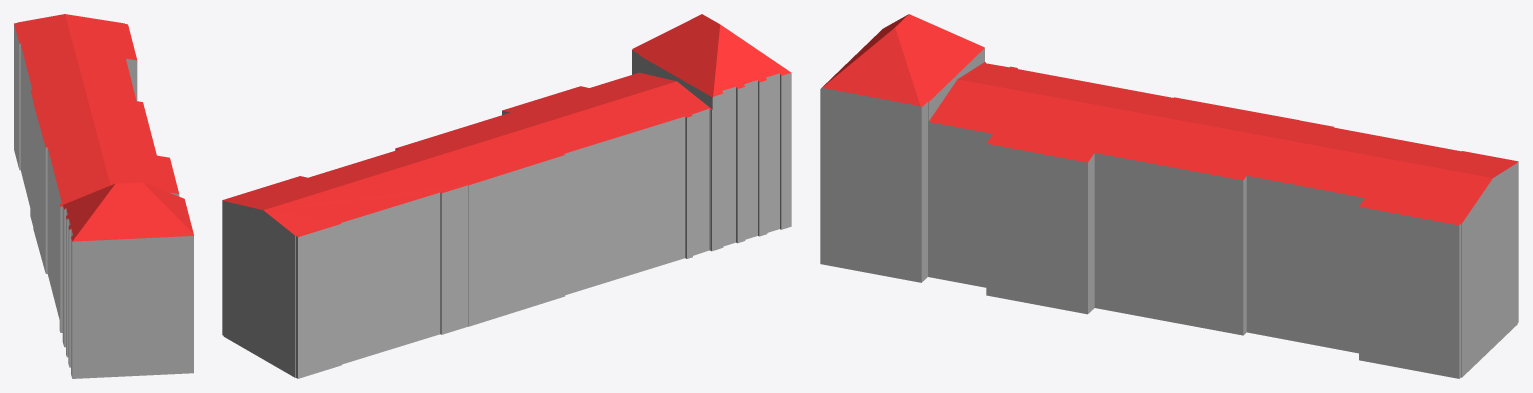
File: DEBY_LOD2_4906966.dae
3 views of the same model, side by side, from view 1: azimuth 30°, elevation 25°; view 2: azimuth 150°, elevation 25°; view 3: azimuth 270°, elevation 25° (orthographic). The views are drawn at different scales.
Size of the model in its own units: 49.79 by 83.8 by 29.53.
